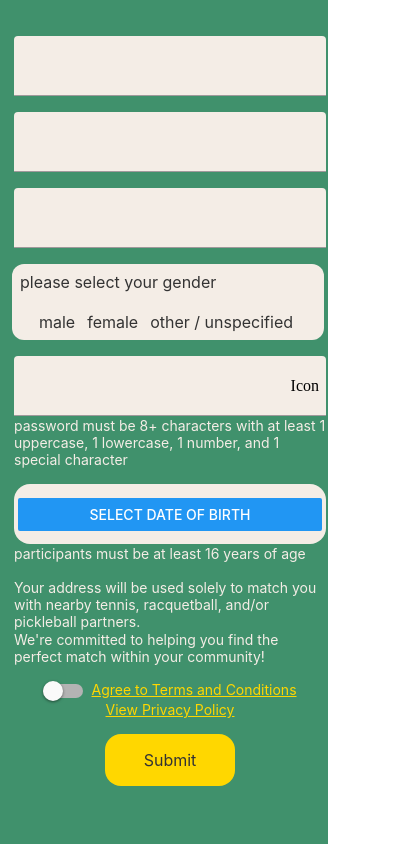
it: RegisterForm › shows error for address when blank & submitted
The image size is (402, 844).
Click the text "Submit": coordinates (170, 760) [144,750,196,770]
(page scrolled)
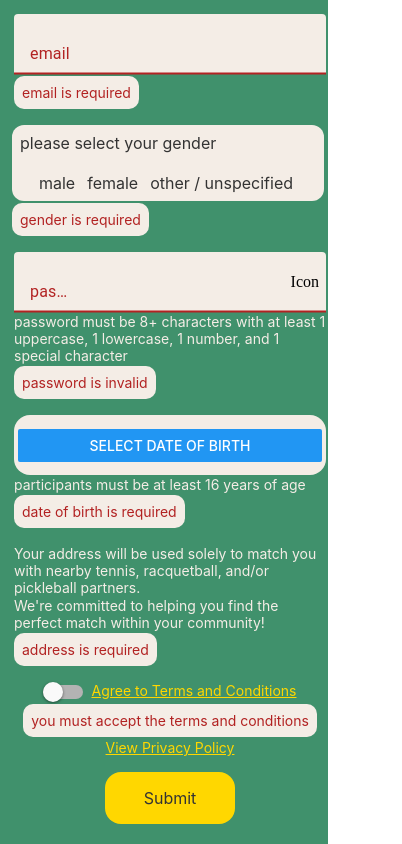
Result: the text "address is required" is shown at [22,641,149,658]
